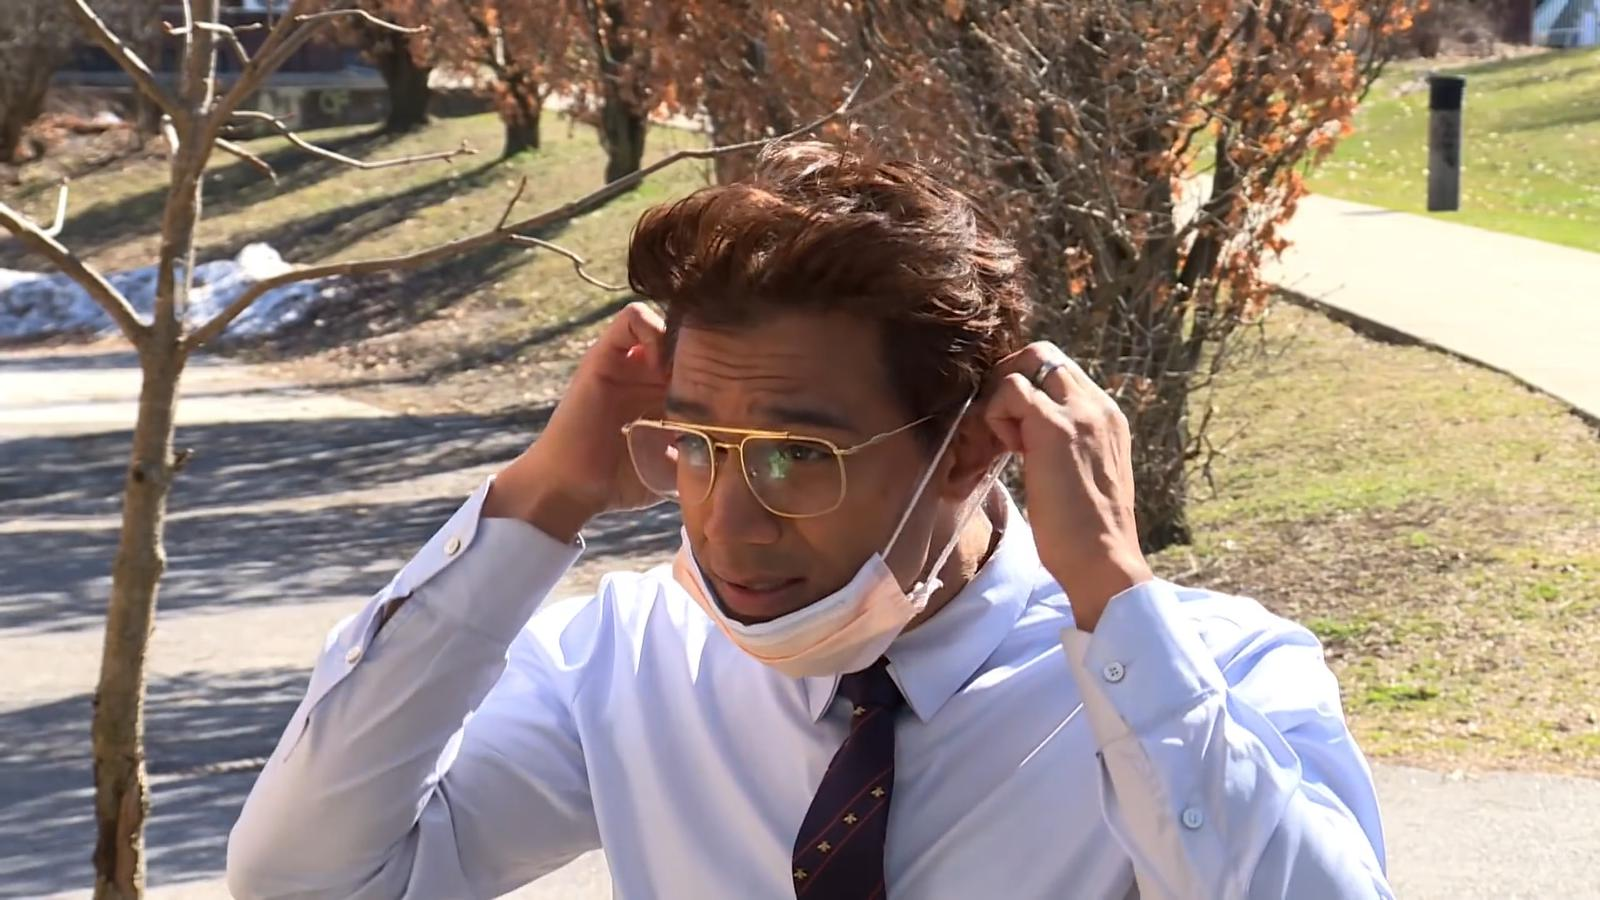with_incorrect_mask: (699, 404, 875, 637)
